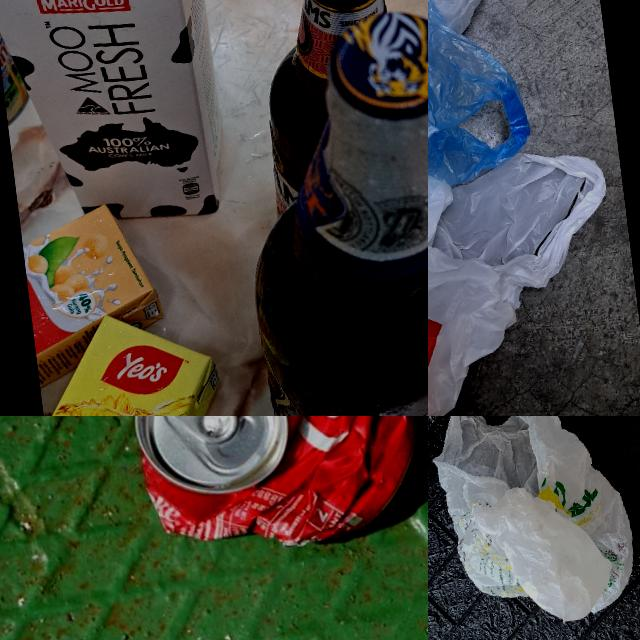aba de lata: (165, 416, 239, 447)
caixinha: (0, 0, 235, 235), (18, 198, 170, 404), (31, 300, 230, 416)
garrafa de vidro: (221, 0, 428, 416), (243, 0, 423, 218)
lata: (123, 416, 428, 564), (0, 0, 33, 138)
sacola plástica: (428, 110, 637, 416), (428, 416, 640, 636), (428, 0, 535, 218)
